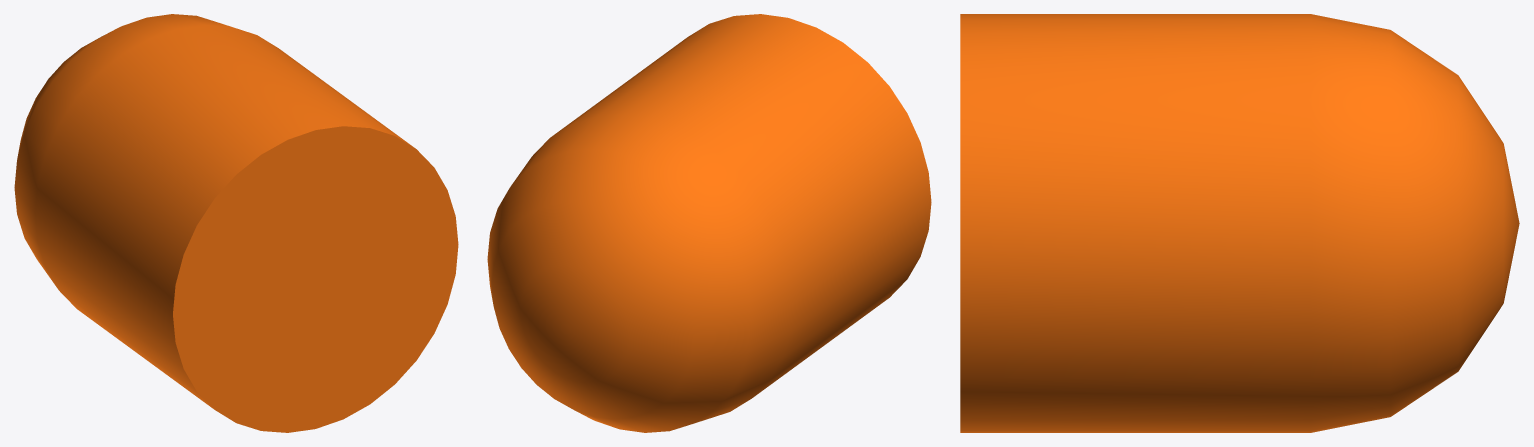
The model's file is PlayerBullet.obj.
3 renders of one model, left to right at view 1: azimuth 30°, elevation 25°; view 2: azimuth 150°, elevation 25°; view 3: azimuth 270°, elevation 25°, orthographic. The views are drawn at different scales.
Parts seen in each view (by area): view 1: Bullet; view 2: Bullet; view 3: Bullet.
Boxes of the visible parts, left/top/right/bottom form: Bullet: left=14, top=14, right=458, bottom=432; Bullet: left=487, top=14, right=931, bottom=432; Bullet: left=960, top=14, right=1519, bottom=432.
Bounding box in the file's own units: 1.5 × 1.5 × 2.
